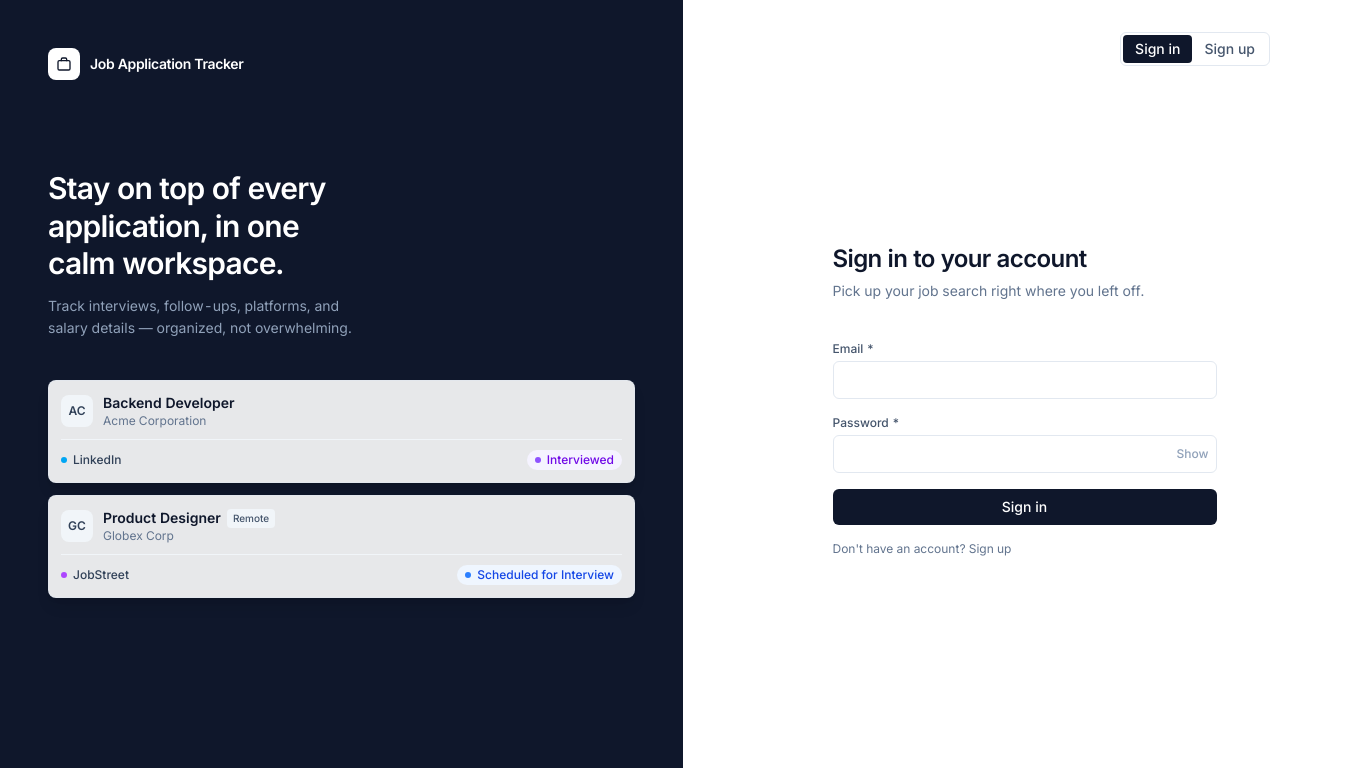
LoginPage › toggles between sign-in and sign-up copy via the mode toggle
Expected: the heading "Sign in to your account" is shown, [832,244,1087,273]
Click the button "Sign up". click: point(1230, 49)
box: [1192,35,1267,63]
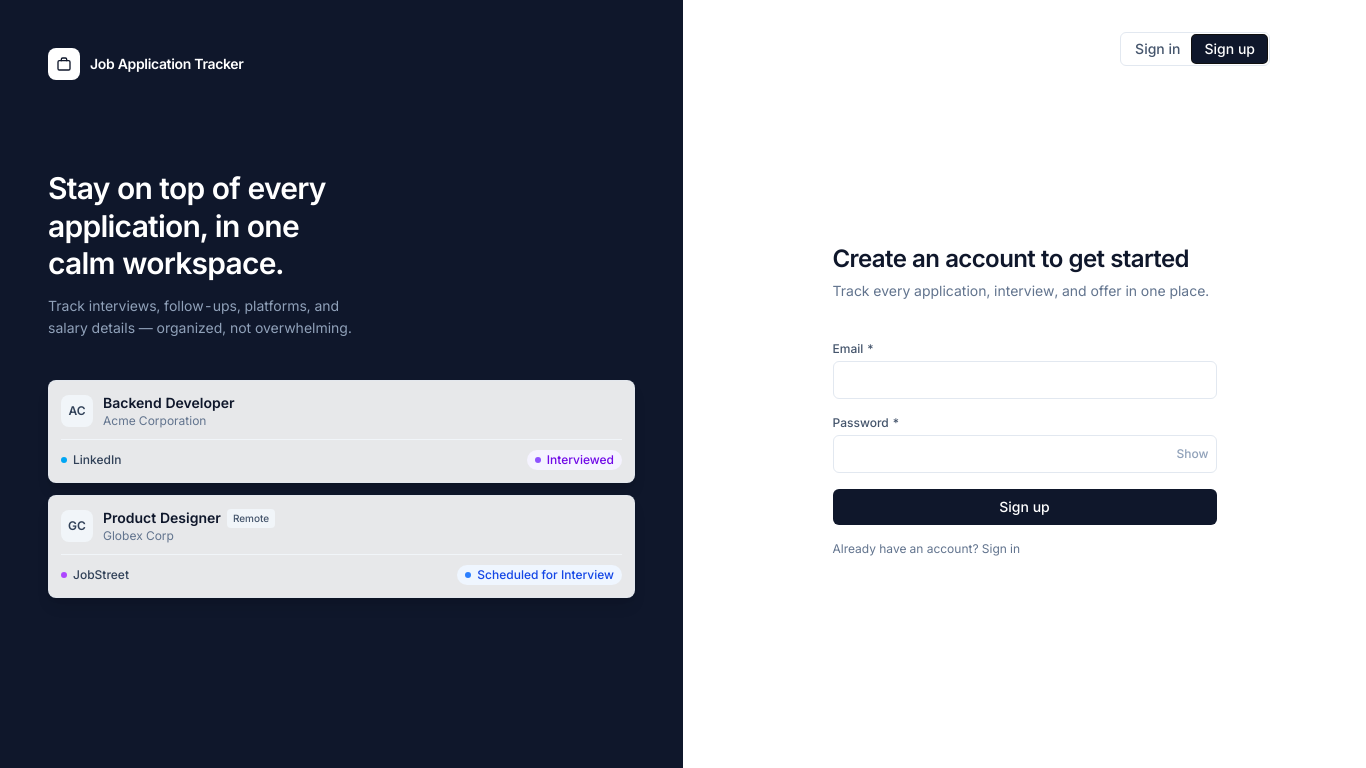
Expected: the heading "Create an account to get started" is shown, [832,243,1216,275]
Expected: the button "Sign up" below "Password" is shown, [832,489,1216,525]
